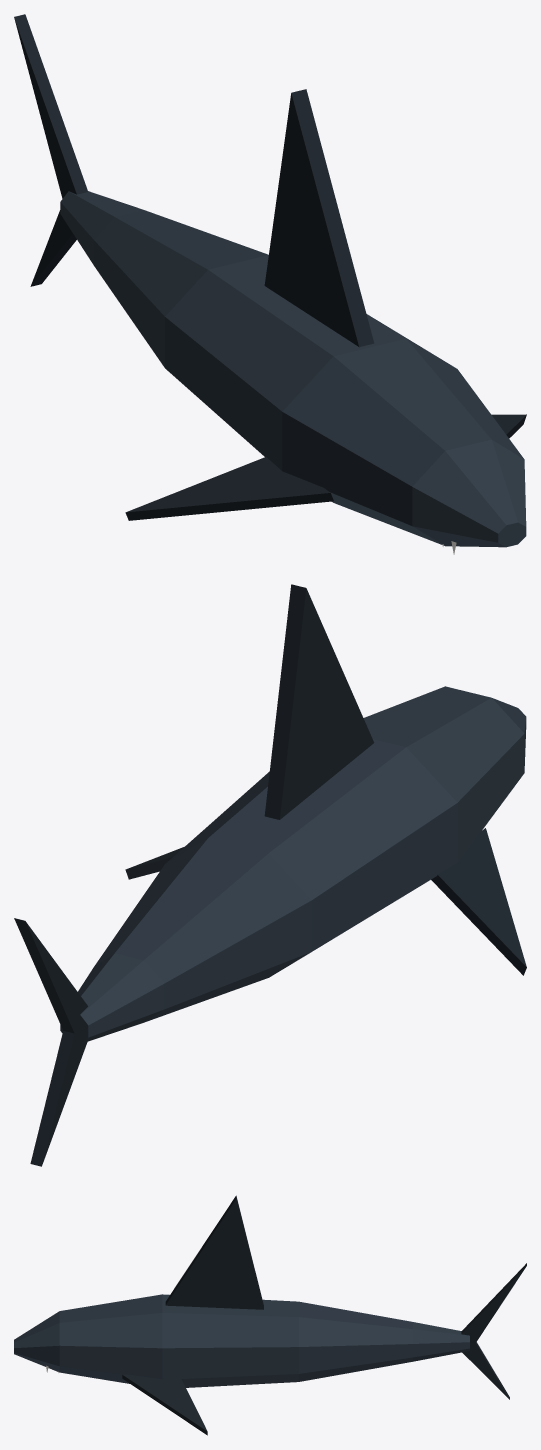
The model's file is beast_shark.glb.
The picture shows the model from 3 angles, top to bottom: view 1: azimuth 30°, elevation 25°; view 2: azimuth 150°, elevation 25°; view 3: azimuth 270°, elevation 25°; orthographic projection. The views are drawn at different scales.
Parts seen in each view (by area): view 1: beast_shark; view 2: beast_shark; view 3: beast_shark.
Part boxes in pixels (x1,y1,x2,y2): beast_shark: [14, 14, 526, 554]; beast_shark: [14, 584, 526, 1166]; beast_shark: [14, 1195, 526, 1435].
Size of the model in its own units: 2.12 by 1.95 by 4.5.
